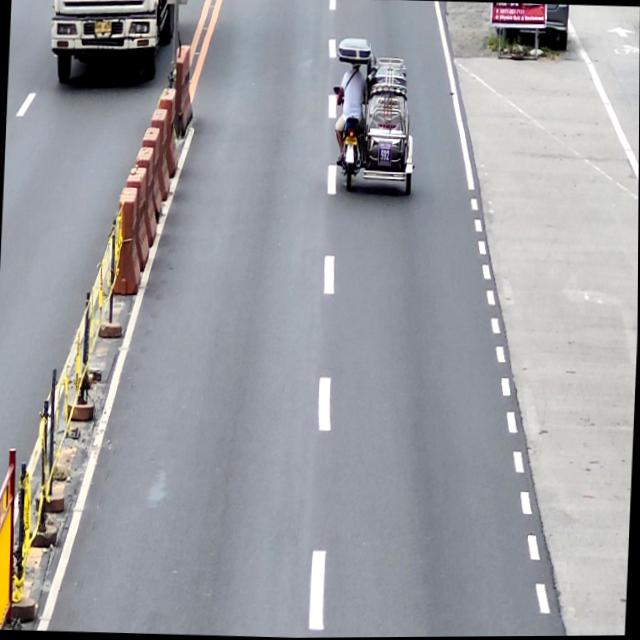License-Plate: (344, 134, 357, 146)
Tricycle: (330, 35, 420, 197)
